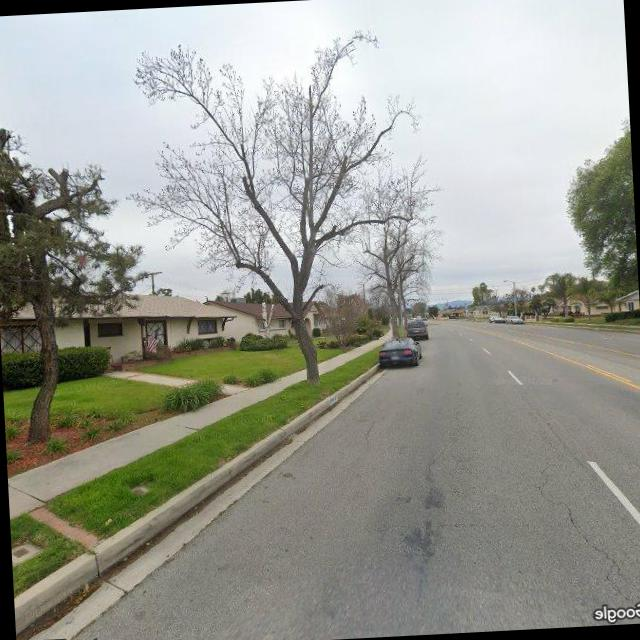crack: (533, 463, 634, 606), (361, 417, 379, 452)
